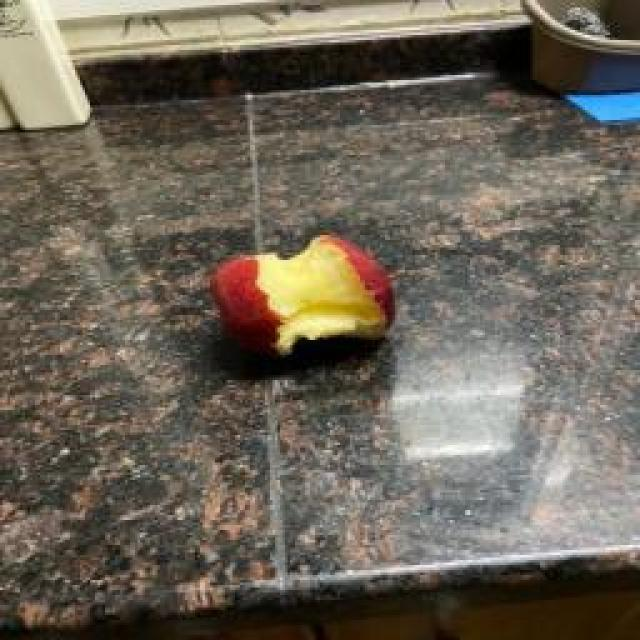Apple: (211, 235, 394, 354)
